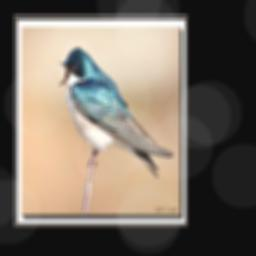Swallow: (56, 44, 175, 180)
